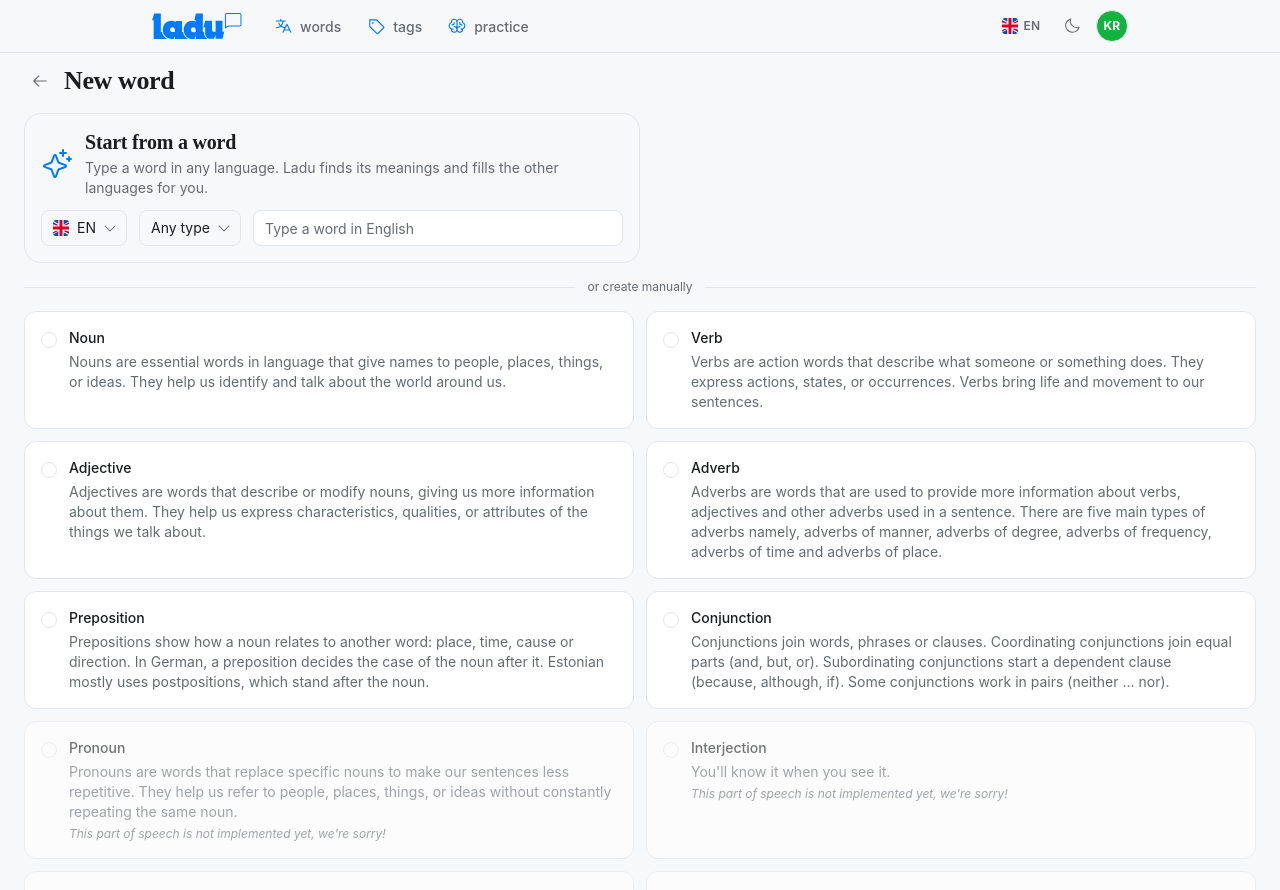
Test: AddWordPage › sends the back arrow to the type gate once a type is picked
Click the 1st radio button named "Noun": coordinates (49, 340) [41, 332, 57, 348]
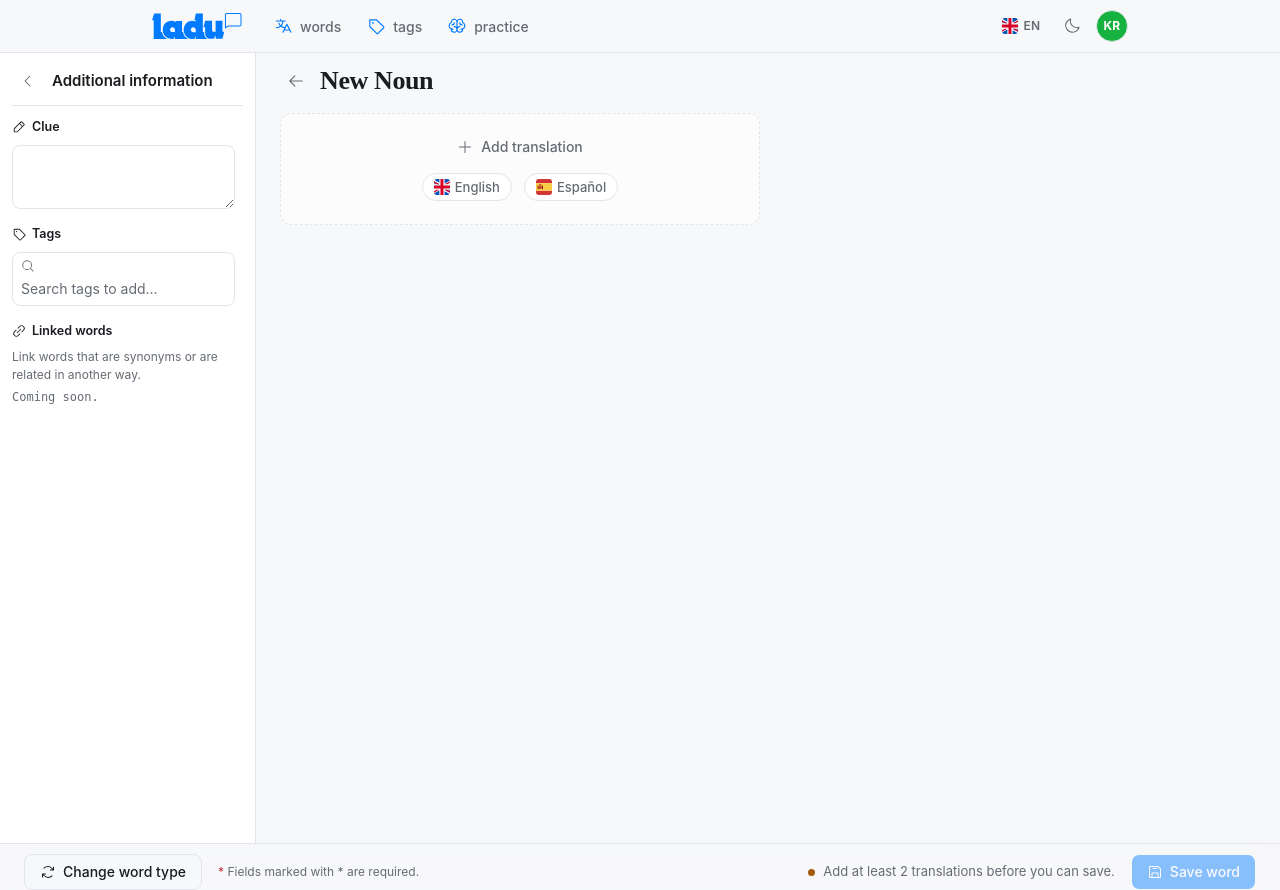
Now the heading "New Noun" is shown, box [320, 66, 433, 96]
Click the button named "Back to word type": coordinates (296, 81) [280, 65, 312, 97]
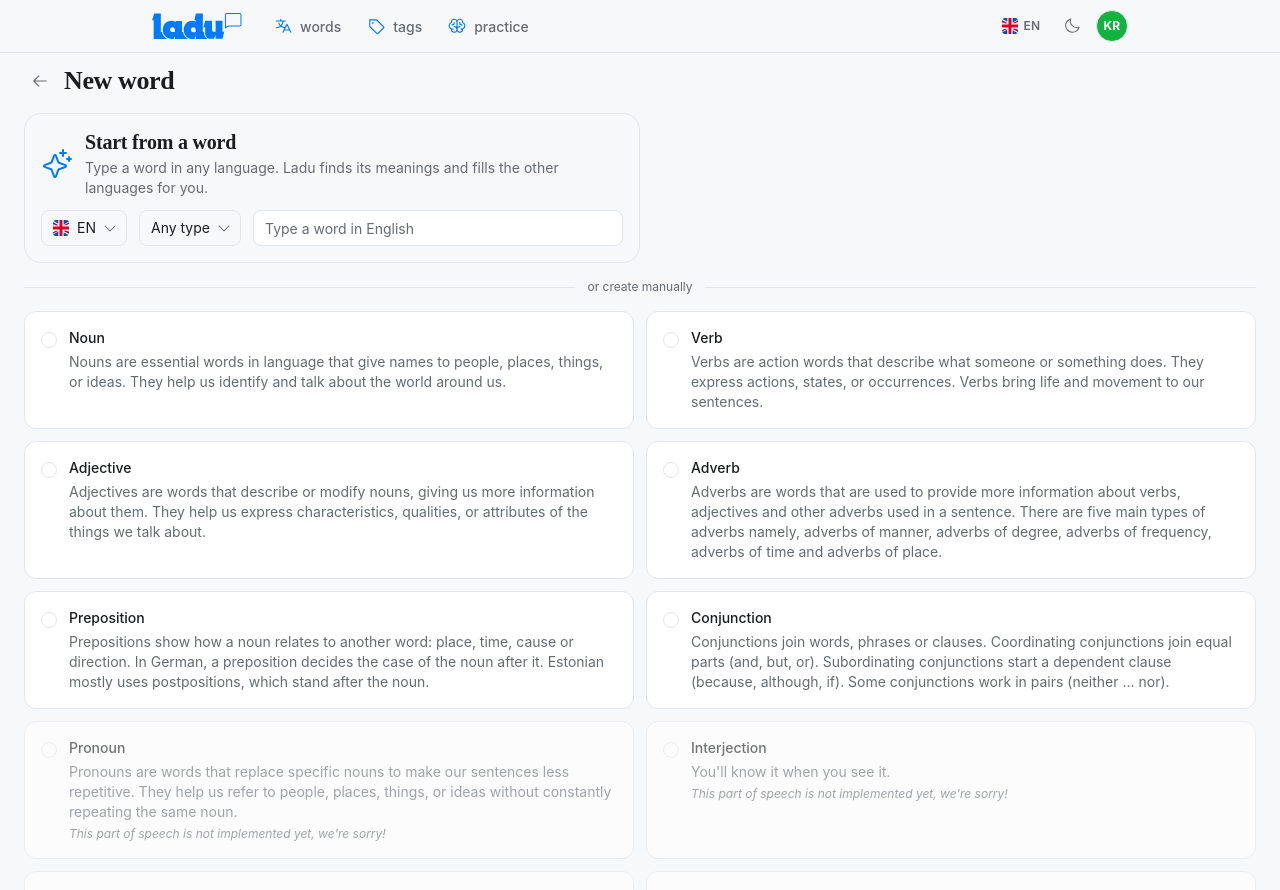
Now the heading "New word" is shown, box [64, 66, 174, 96]
